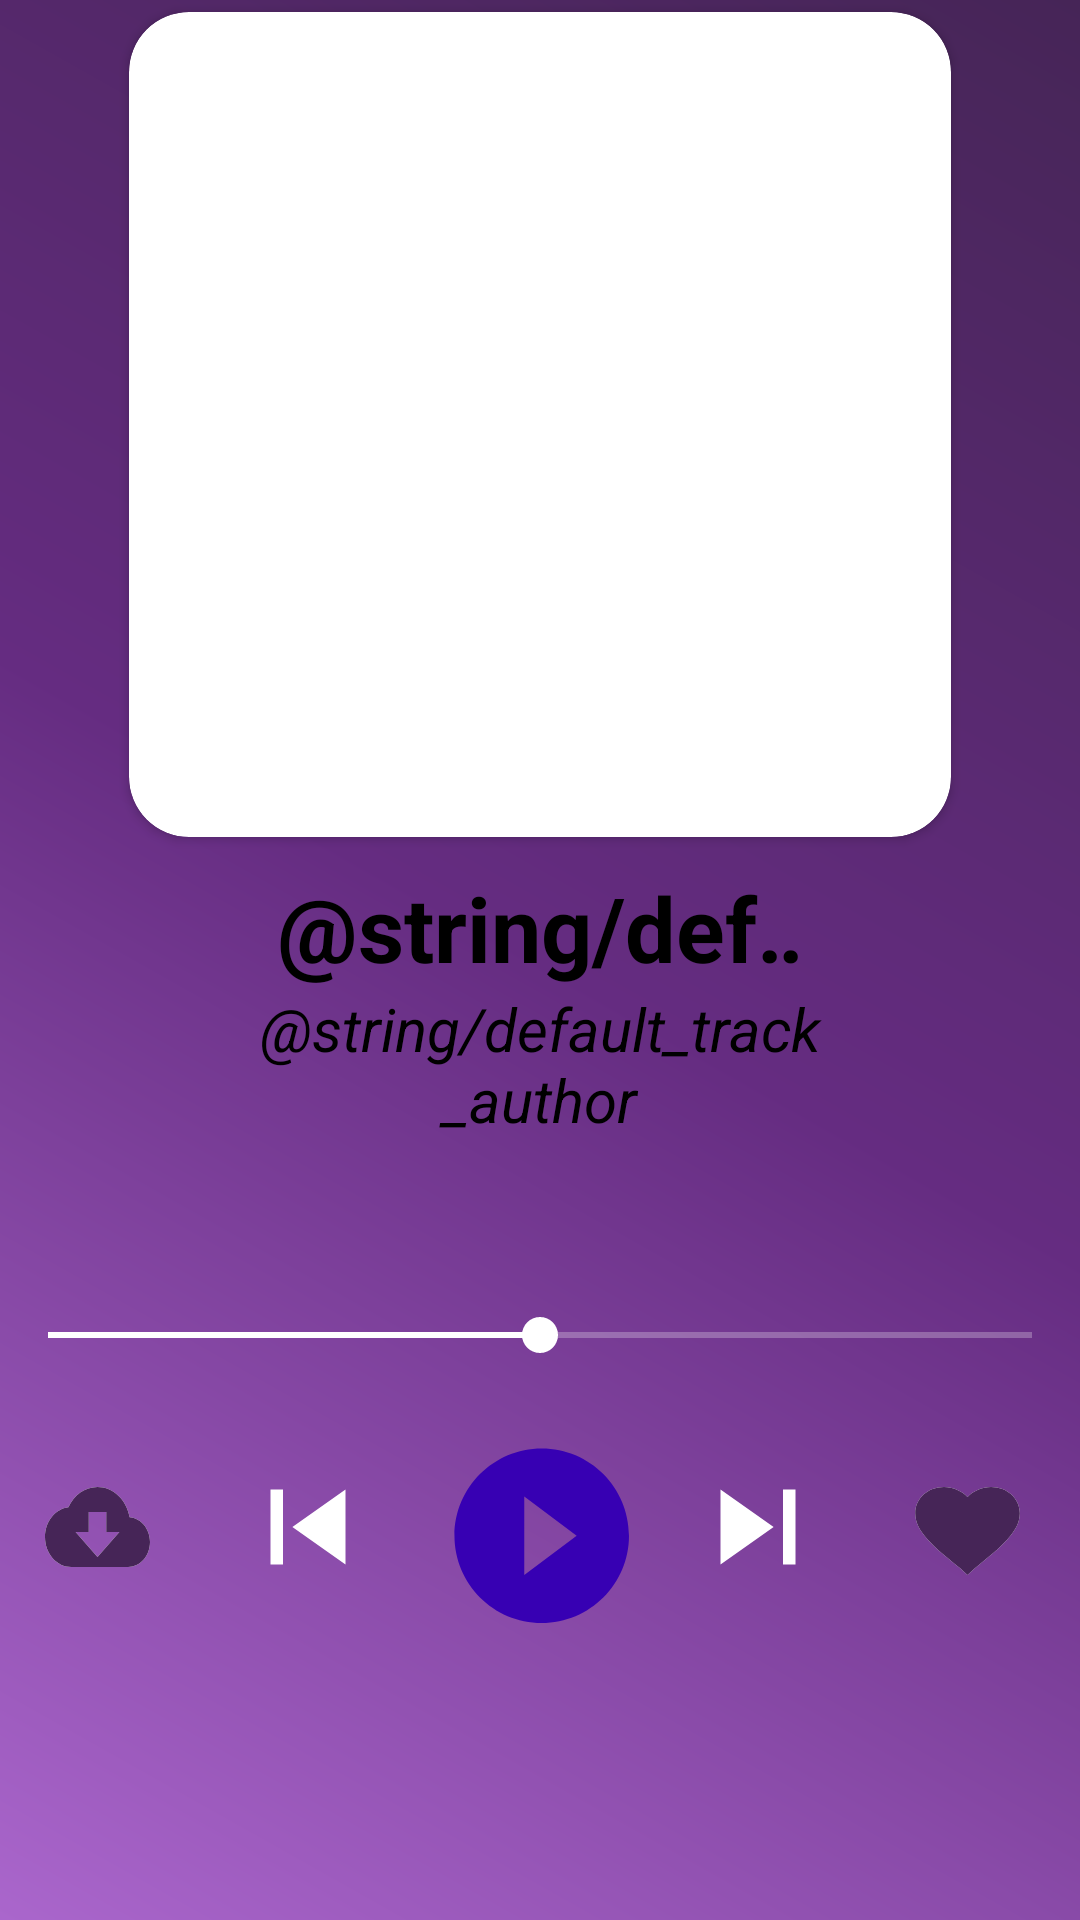

Icon bounding boxes for this 1080px x 1920px phone screenshot, format (x1, y1, x2, y2):
play circle: (454, 1448, 629, 1623)
skip next: (720, 1489, 796, 1565)
skip previous: (270, 1489, 346, 1565)
